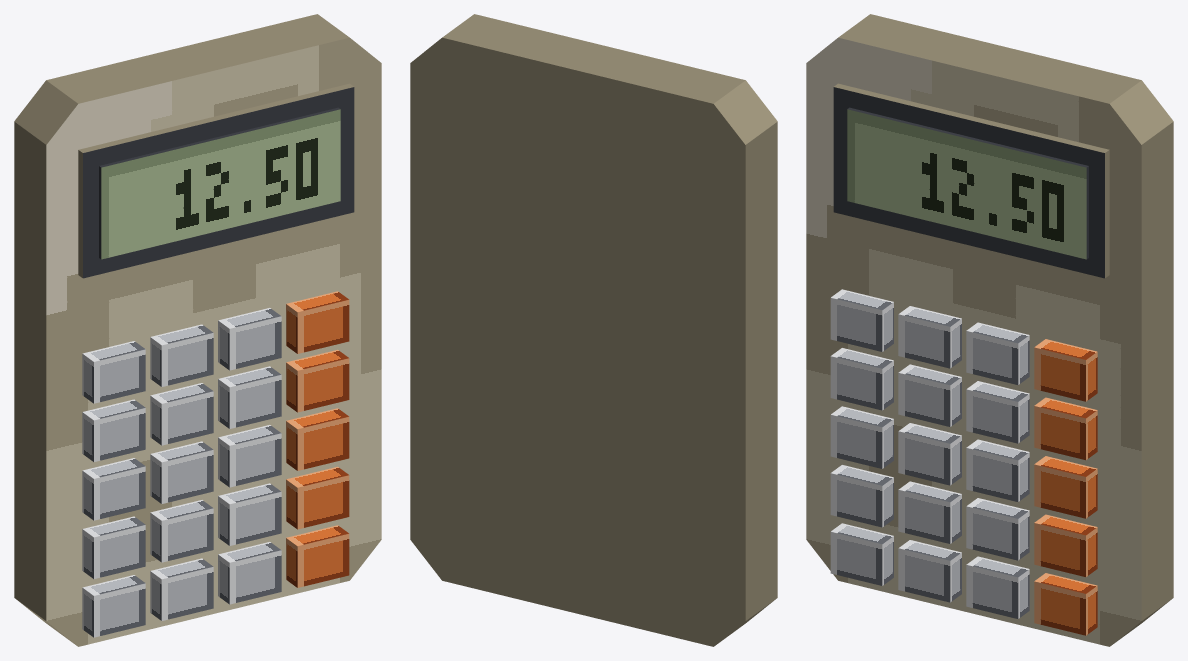
The model's file is money-calculator.glb.
The picture shows the model from 3 angles, left to right: view 1: azimuth 30°, elevation 25°; view 2: azimuth 150°, elevation 25°; view 3: azimuth 330°, elevation 25°; orthographic projection.
Visible parts, largest first — view 1: money.calculator; view 2: money.calculator; view 3: money.calculator.
Part boxes in pixels (box(x1,y1,x2,y2)): money.calculator: box(14, 14, 381, 646); money.calculator: box(410, 14, 777, 646); money.calculator: box(806, 14, 1173, 646).
Bounding box in the file's own units: 1.14 × 1.76 × 0.2569.
6 materials, 4 textured.
